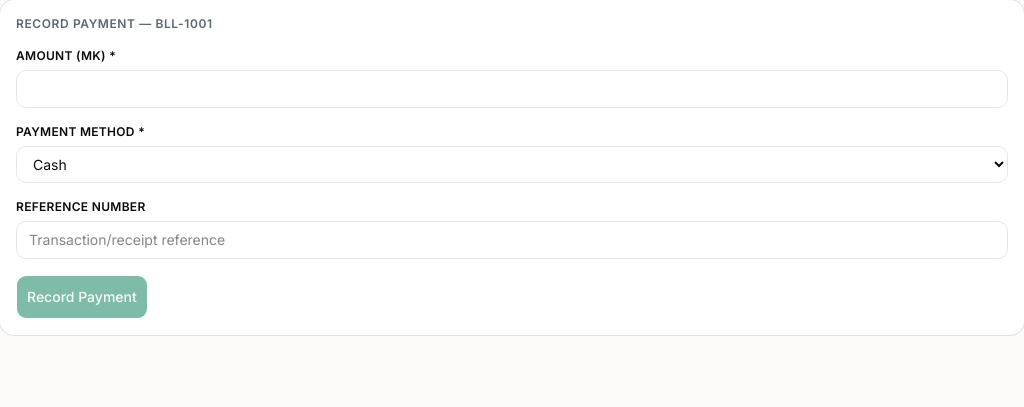
PaymentForm › shows the API message when a payment is rejected with 422
Type "6000" into the number field labelled "Amount (MK) *". click: coordinates (512, 89)
box: [16, 70, 1008, 108]
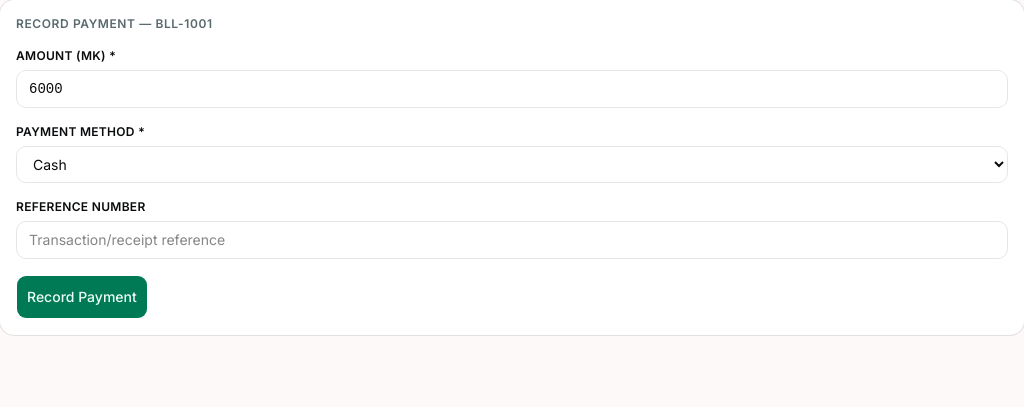
Select "Cash" in the dropdown labelled "Payment Method *". click: coordinates (512, 164)
box: [16, 146, 1008, 183]
Click the button "Record Payment". click: coordinates (82, 297)
box: [16, 275, 148, 319]
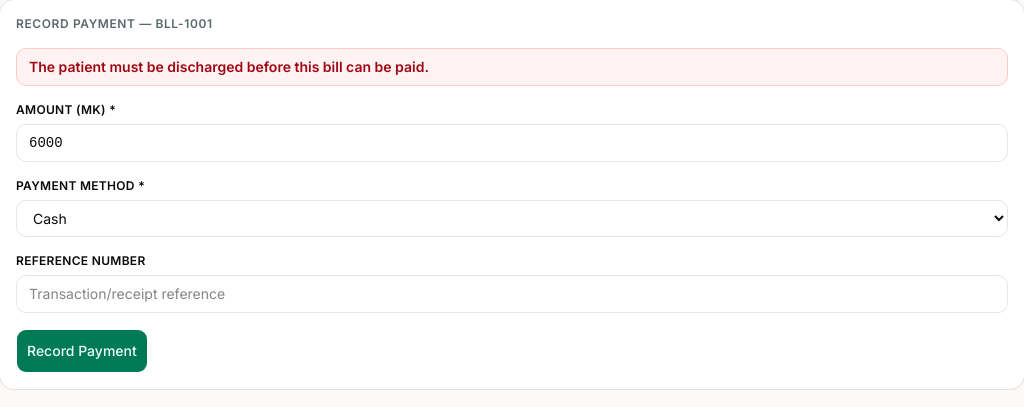
Result: the text "The patient must be discharged before this bill can be paid." is shown at [16, 48, 1008, 86]
